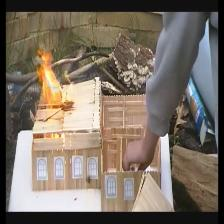fire: (32, 48, 65, 103)
